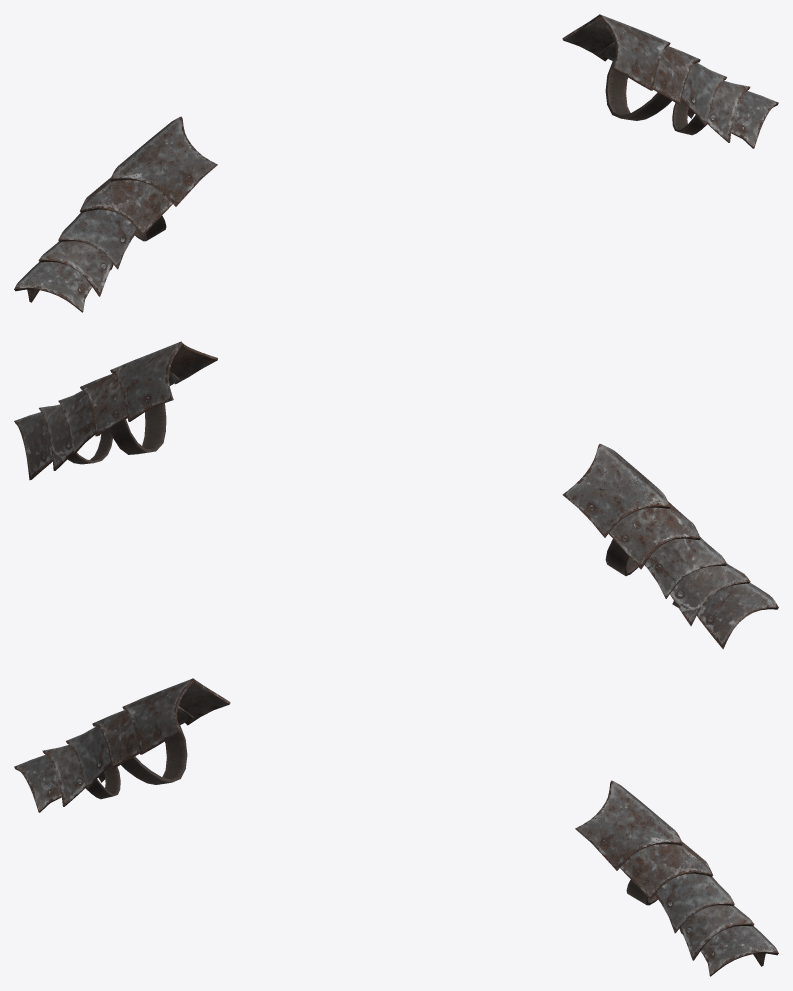
Rendered from sk_gb_uruk_bracer_elite_c.fbx.
3 renders of one model, top to bottom at view 1: azimuth 30°, elevation 25°; view 2: azimuth 150°, elevation 25°; view 3: azimuth 330°, elevation 25°, orthographic.
Parts seen in each view (by area): view 1: sk_gb_uruk_bracer_elite_c; view 2: sk_gb_uruk_bracer_elite_c; view 3: sk_gb_uruk_bracer_elite_c.
Part boxes in pixels (bbox=[...]): sk_gb_uruk_bracer_elite_c: bbox=[14, 14, 778, 312]; sk_gb_uruk_bracer_elite_c: bbox=[14, 341, 778, 649]; sk_gb_uruk_bracer_elite_c: bbox=[14, 678, 778, 976].
Size of the model in its own units: 1.56 by 0.1846 by 0.3163.
Materials: 1 (1 with a texture image).
